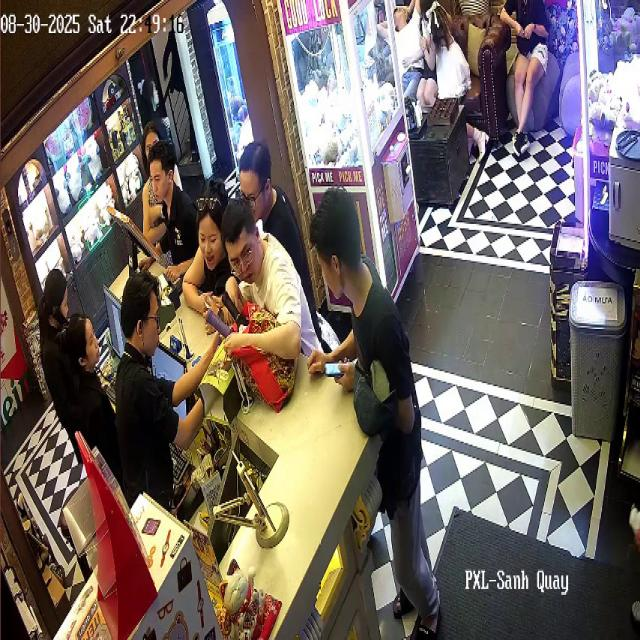khach: (313, 185, 425, 638), (226, 204, 296, 336), (242, 130, 300, 245), (422, 0, 476, 103), (501, 0, 535, 157), (199, 193, 241, 310), (393, 4, 424, 101), (143, 126, 154, 252)
nhan vien: (118, 297, 170, 478), (152, 158, 198, 271), (70, 317, 102, 454), (42, 262, 68, 394)
